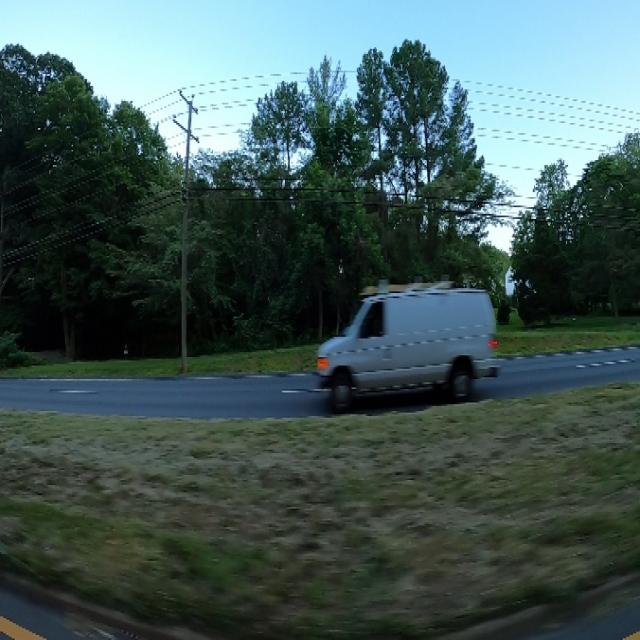car: (312, 263, 508, 421)
